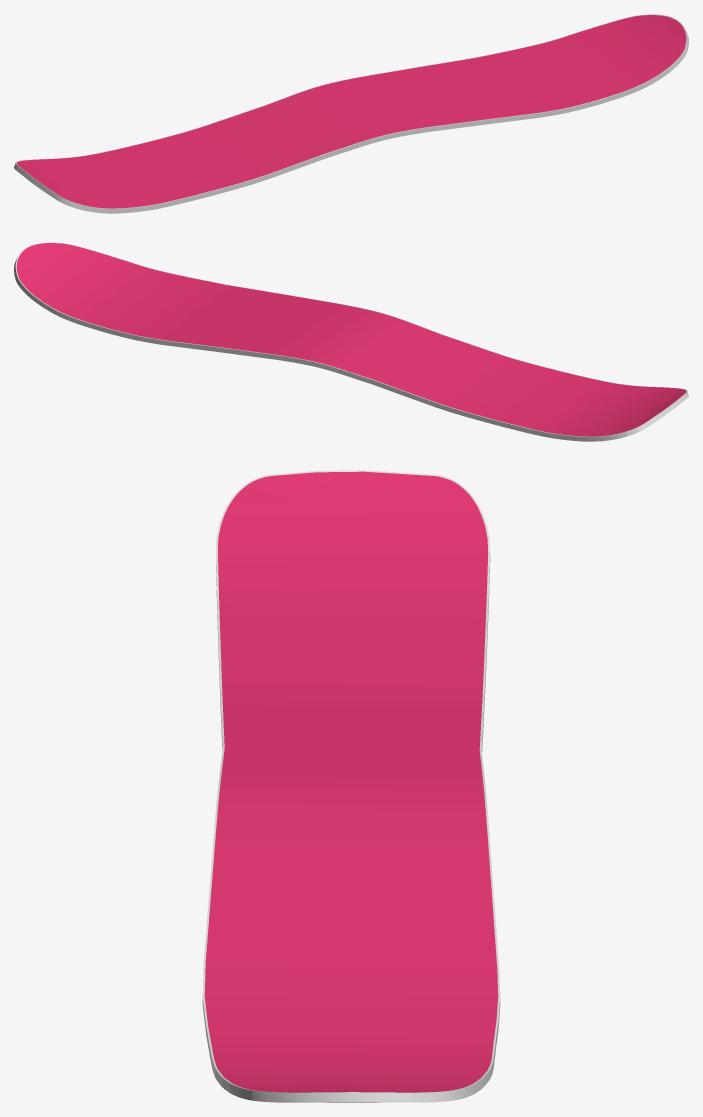
The model's file is board_tapered_hybrid-camber.gltf.
3 views of the same model, one above another, from view 1: azimuth 30°, elevation 25°; view 2: azimuth 150°, elevation 25°; view 3: azimuth 270°, elevation 25° (orthographic). The views are drawn at different scales.
Parts seen in each view (by area): view 1: board-top, board-edge; view 2: board-top, board-edge; view 3: board-top, board-edge.
Part boxes in pixels (x1=…): board-top: x1=16, y1=15, x2=686, y2=208; board-edge: x1=14, y1=14, x2=688, y2=213; board-top: x1=16, y1=243, x2=686, y2=436; board-edge: x1=14, y1=242, x2=688, y2=441; board-top: x1=204, y1=471, x2=498, y2=1092; board-edge: x1=202, y1=470, x2=500, y2=1102.
Bounding box in the file's own units: 1.47 × 0.063 × 0.2932.
